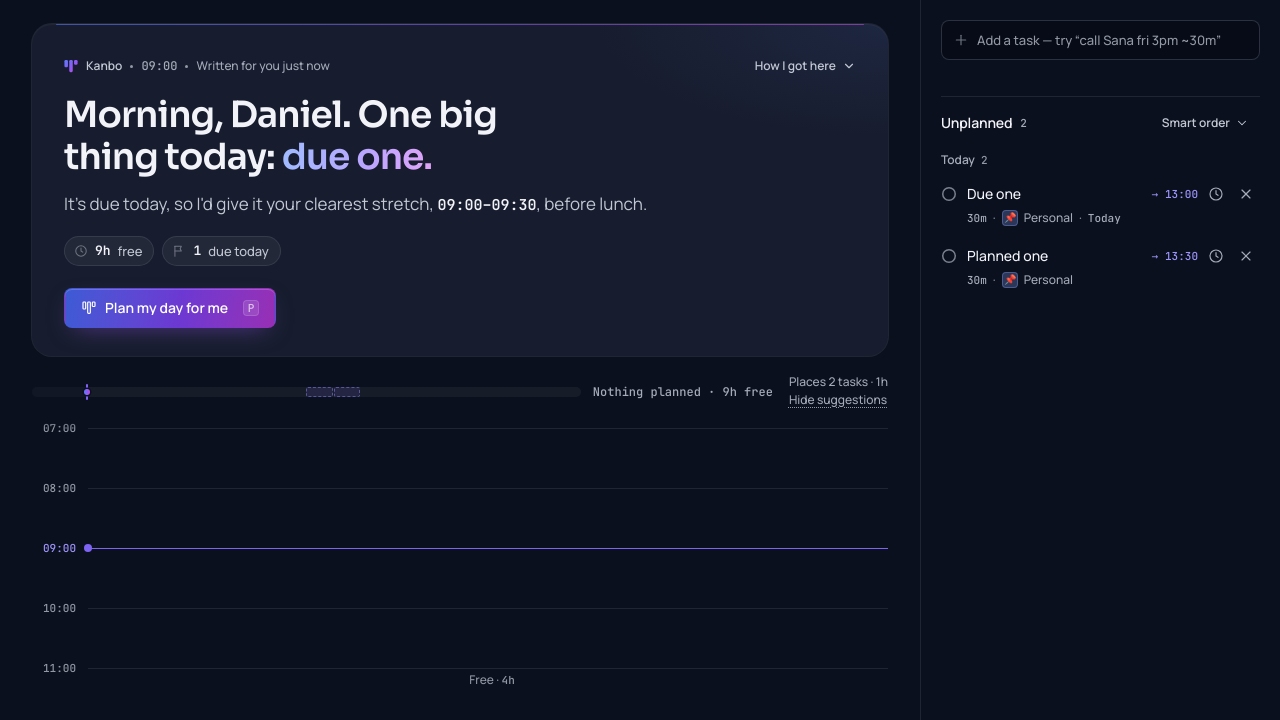
Scenario: TodayView: the brief › a number narrows the rail to that group, and again shows everything
Expected: the text "Planned one" is shown, [967,246,1048,265]
Click the button "1 due today" at [222, 251], box [162,236,281,266]
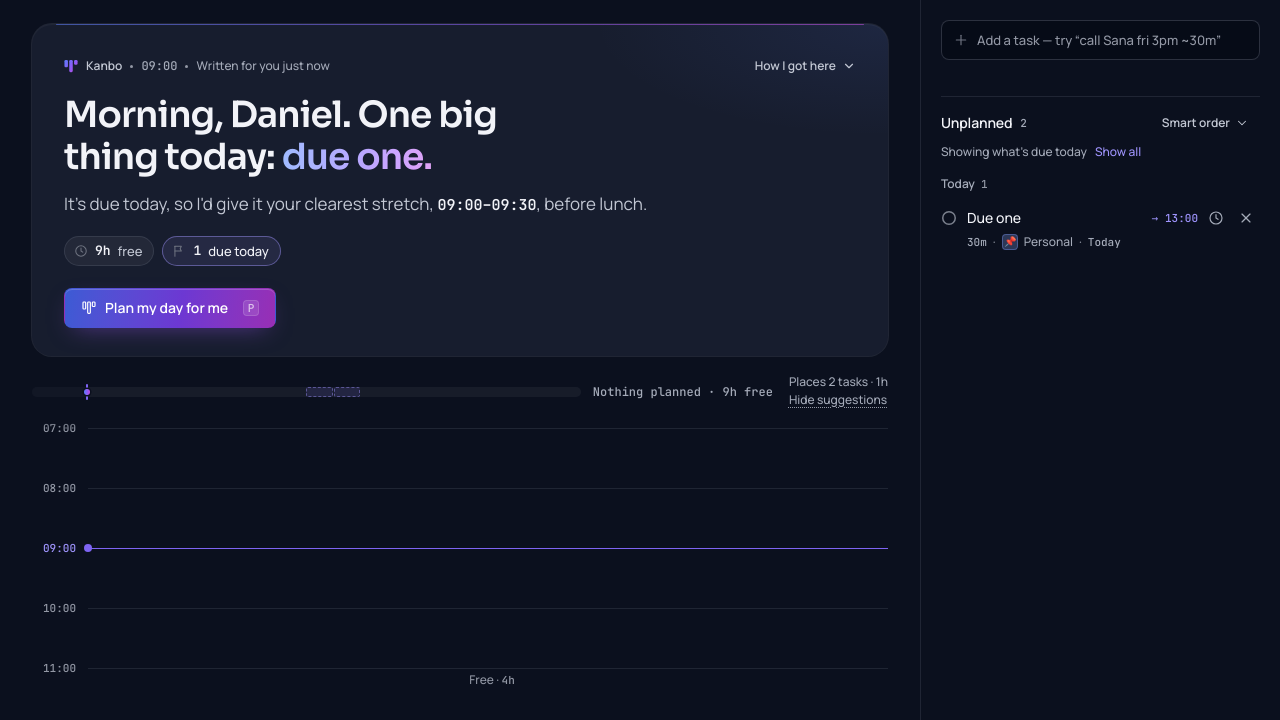
Expected: the text "Due one" is shown, [967,208,1021,227]
Expected: the button "1 due today" is pressed, [162,236,281,266]
Click the button "Show all" at [1118, 152], box [1095,144,1141,160]
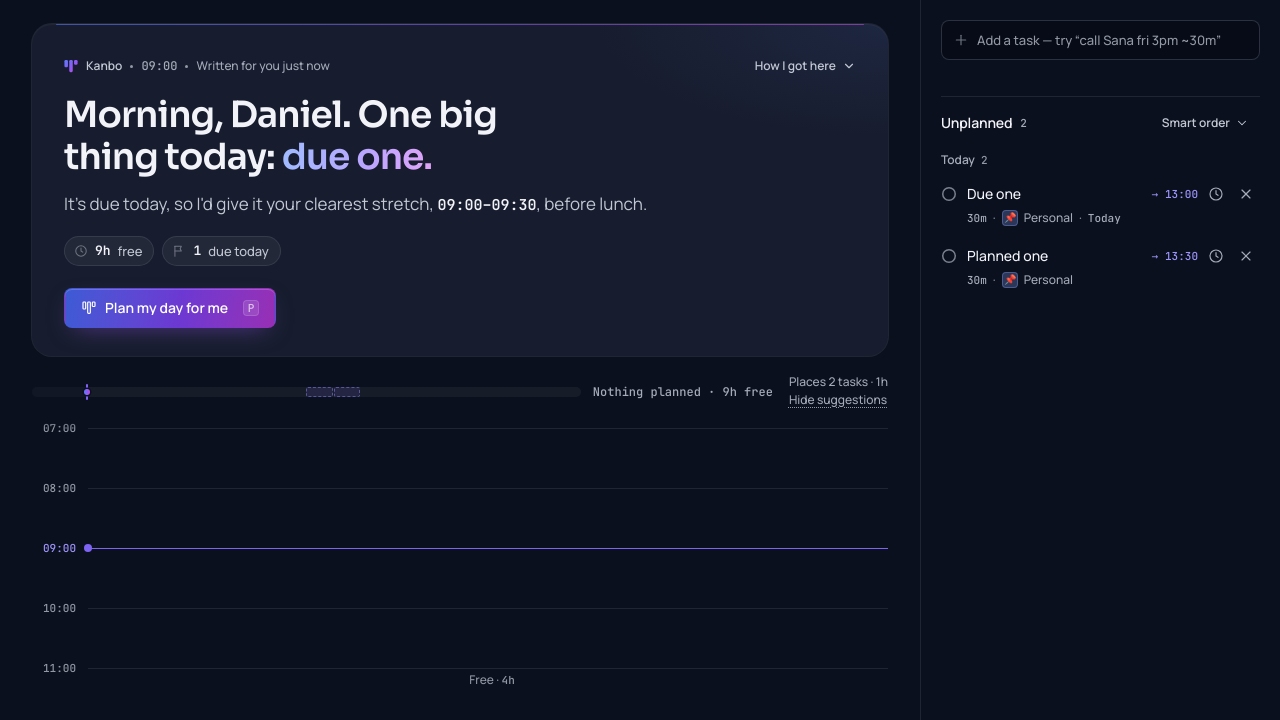
Expected: the text "Planned one" is shown, [967,246,1048,265]
